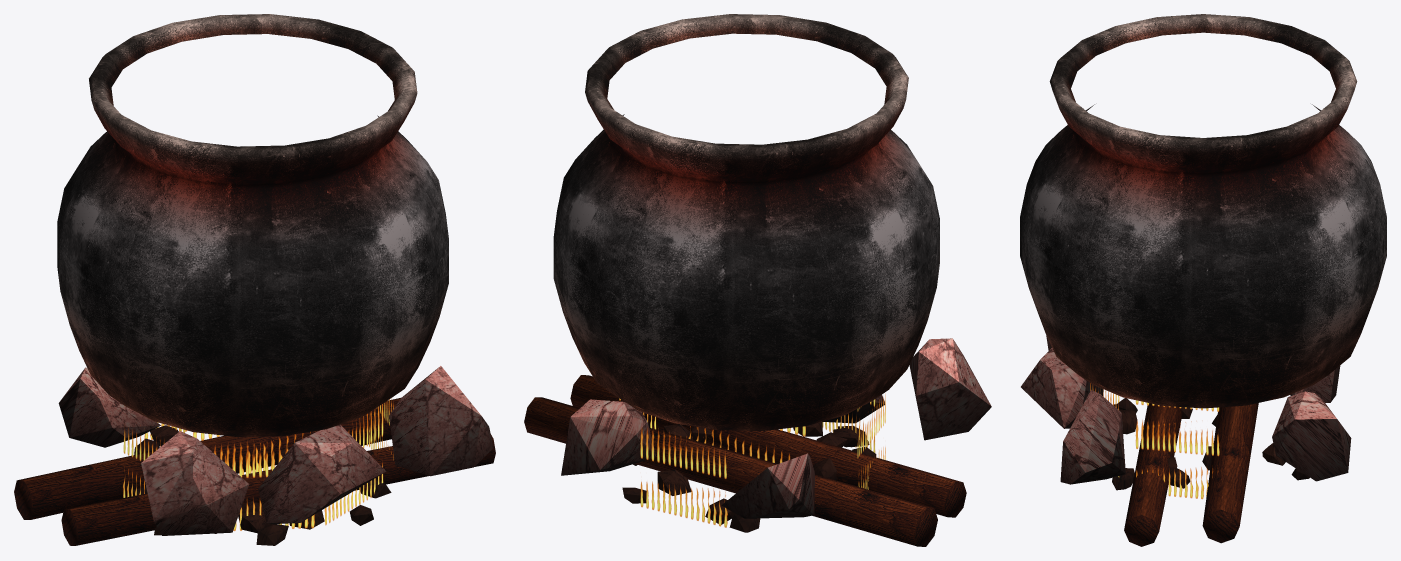
The model's file is mm6_deco_cauldron_pot.glb.
The picture shows the model from 3 angles, left to right: view 1: azimuth 30°, elevation 25°; view 2: azimuth 150°, elevation 25°; view 3: azimuth 270°, elevation 25°; orthographic projection. The views are drawn at different scales.
Parts seen in each view (by area): view 1: CauldronPot; view 2: CauldronPot; view 3: CauldronPot.
Boxes of the visible parts, x1,y1,x2,y2 form: CauldronPot: (14, 14, 495, 545); CauldronPot: (524, 14, 991, 546); CauldronPot: (1020, 14, 1386, 546).
Bounding box in the file's own units: 1.23 × 1.16 × 1.02.
8 materials, 8 textured.
